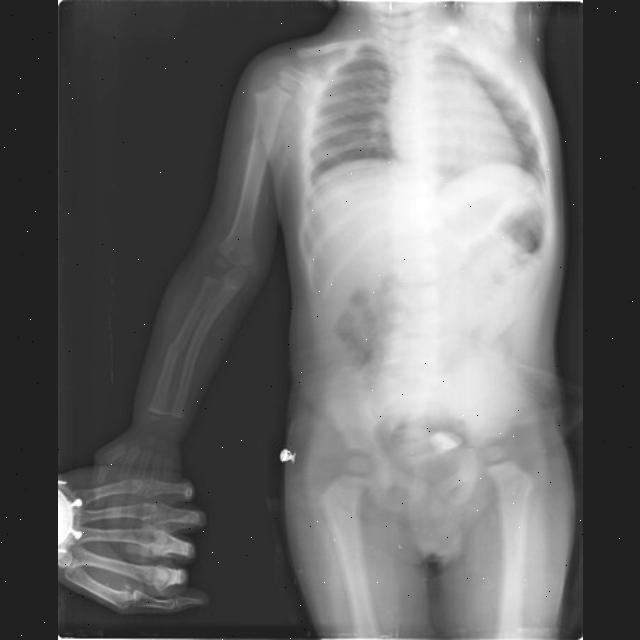Fracture: (164, 337, 186, 363), (182, 349, 199, 372)
